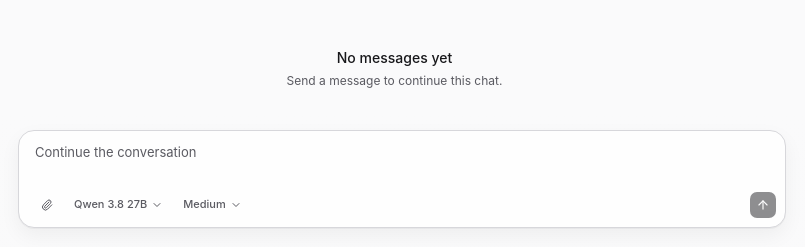
it: a failed route change retains the working route and offers retry
Click the button with aria-label "Model: Qwen 3.8 27B". click: (119, 205)
box: [65,193,172,217]
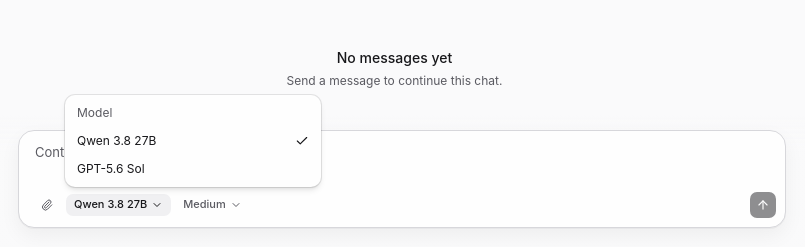
Click the menu item "GPT-5.6 Sol". click: (111, 168)
box: [77,161,145,176]
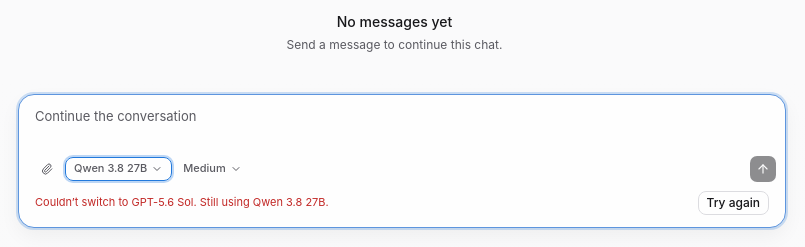
Expected: the button with aria-label "Model: Qwen 3.8 27B" is shown, [65,157,172,181]
Expected: the message shows "Couldn’t switch to GPT-5.6 Sol. Still using Qwen 3.8 27B.", [35,195,329,209]
Click the button "Try again". click: (733, 203)
box: [698,191,769,215]
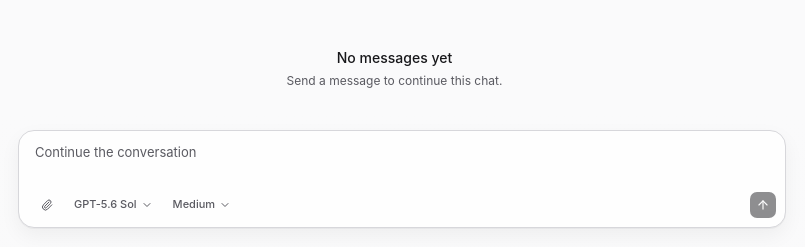
Expected: the button with aria-label "Model: GPT-5.6 Sol" is shown, [65,193,162,217]
